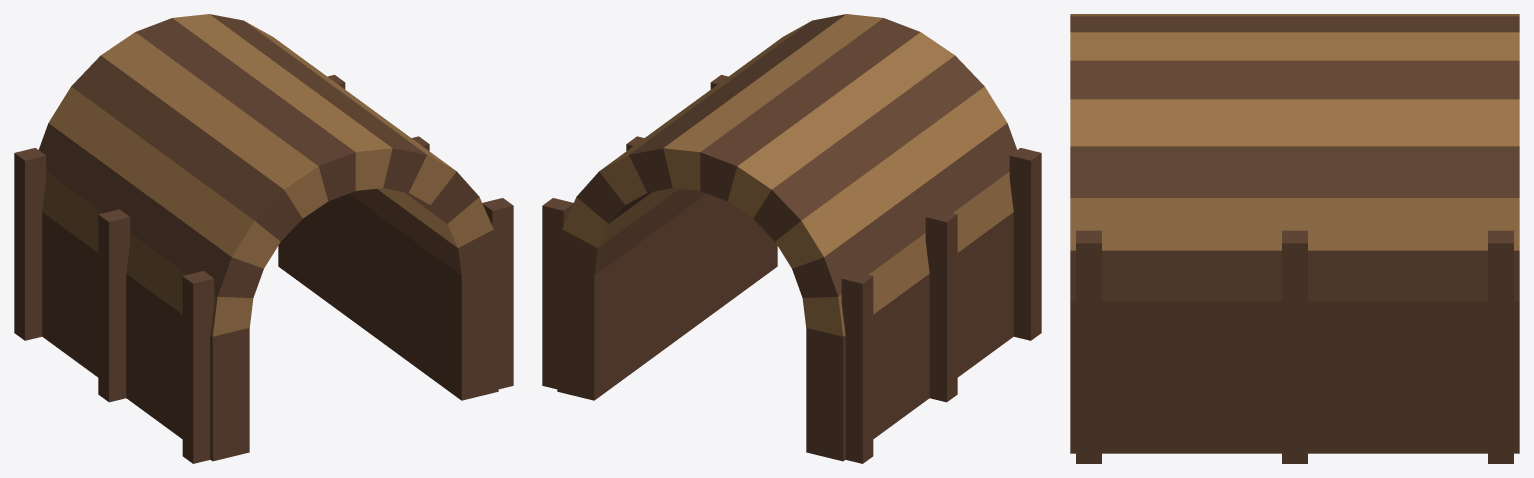
File: PirateCove_ShipwreckTunnel_Simple.glb
3 renders of one model, left to right at view 1: azimuth 30°, elevation 25°; view 2: azimuth 150°, elevation 25°; view 3: azimuth 270°, elevation 25°, orthographic. The views are drawn at different scales.
Visible parts, largest first — view 1: PirateCove_ShipwreckTunnel_Simple; view 2: PirateCove_ShipwreckTunnel_Simple; view 3: PirateCove_ShipwreckTunnel_Simple.
Boxes of the visible parts, bbox=[...] form: PirateCove_ShipwreckTunnel_Simple: bbox=[14, 14, 513, 463]; PirateCove_ShipwreckTunnel_Simple: bbox=[542, 14, 1041, 463]; PirateCove_ShipwreckTunnel_Simple: bbox=[1070, 14, 1519, 463].
Bounding box in the file's own units: 2.42 × 1.98 × 2.4.
